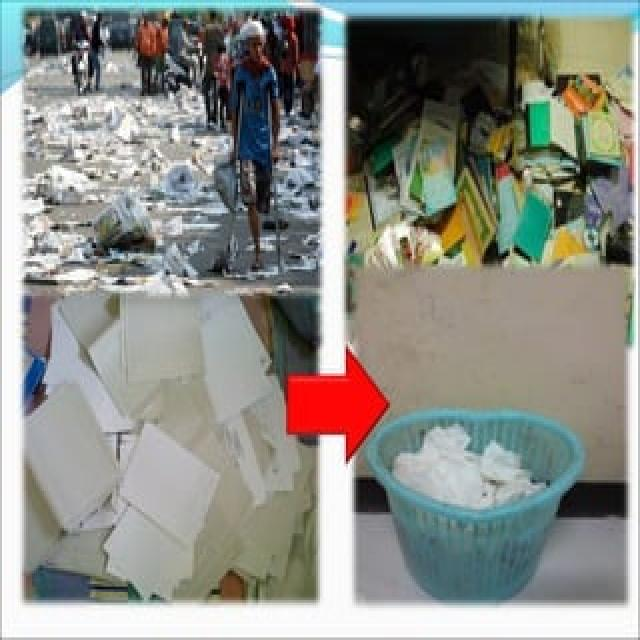Kertas: (52, 43, 304, 298), (80, 280, 272, 591), (364, 81, 634, 285), (357, 369, 568, 565)
